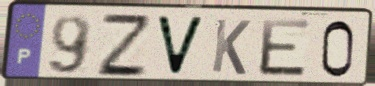0: (320, 18, 356, 80)
9: (45, 13, 97, 75)
E: (257, 17, 313, 79)
K: (209, 17, 253, 77)
V: (153, 14, 208, 78)
Z: (96, 11, 151, 79)
